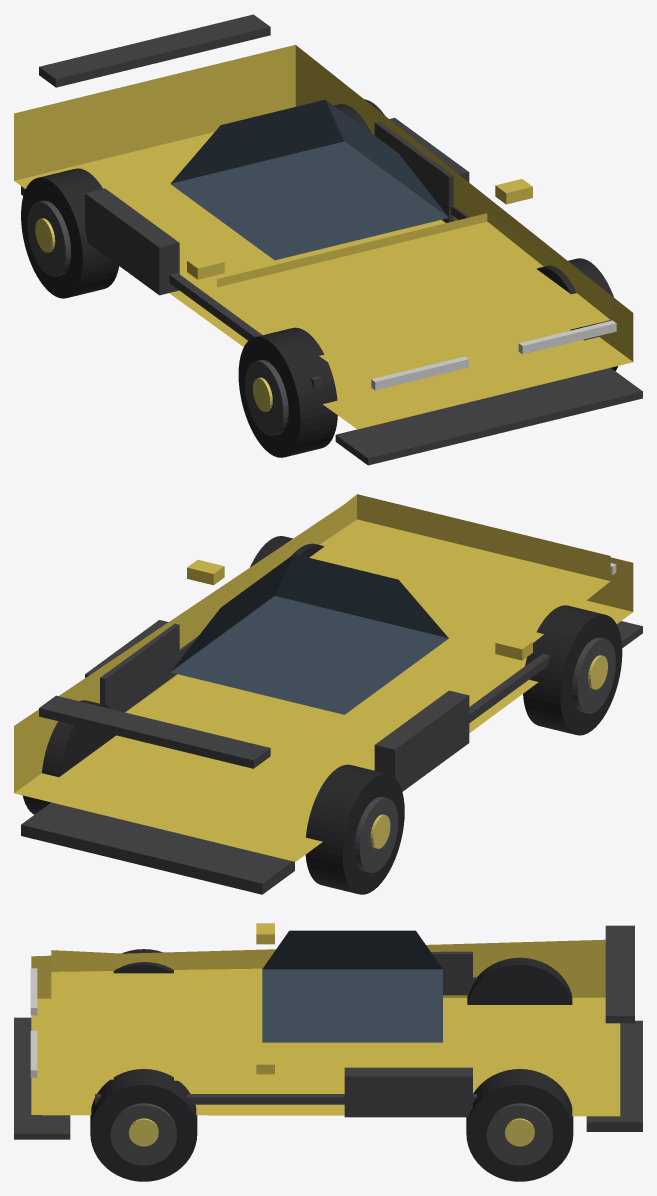
File: toro_v12_lambo_style.glb
3 views of the same model, one above another, from view 1: azimuth 30°, elevation 25°; view 2: azimuth 150°, elevation 25°; view 3: azimuth 270°, elevation 25° (orthographic). The views are drawn at different scales.
Parts seen in each view (by area): view 1: part_0, part_1, part_2, part_3, part_10, part_13, part_5, part_9, part_6, part_14, part_11, part_24 (+5 smaller); view 2: part_0, part_1, part_2, part_4, part_13, part_10, part_9, part_5, part_6, part_19, part_11, part_14 (+4 smaller); view 3: part_0, part_1, part_2, part_16, part_19, part_6, part_13, part_3, part_4, part_9, part_20, part_17 (+9 smaller).
Boxes of the visible parts, x1,y1,x2,y2 form: part_0: (14, 45, 633, 429); part_1: (217, 213, 610, 381); part_2: (170, 99, 448, 260); part_3: (335, 368, 642, 465); part_10: (238, 327, 337, 457); part_13: (21, 168, 119, 298); part_5: (85, 188, 179, 295); part_9: (39, 14, 270, 87); part_6: (374, 117, 469, 222); part_14: (27, 200, 70, 276); part_11: (245, 360, 288, 435); part_24: (169, 273, 321, 388); part_0: (14, 505, 633, 861); part_1: (217, 494, 610, 679); part_2: (170, 554, 448, 714); part_4: (21, 802, 294, 894); part_13: (305, 764, 404, 894); part_10: (523, 605, 622, 735); part_9: (39, 695, 270, 768); part_5: (374, 690, 469, 791); part_6: (85, 620, 179, 712); part_19: (22, 700, 115, 814); part_11: (572, 637, 615, 713); part_14: (354, 796, 398, 872); part_0: (31, 939, 620, 1116); part_1: (51, 950, 278, 1082); part_2: (262, 930, 442, 1042); part_16: (90, 1069, 197, 1181); part_19: (466, 1069, 573, 1181); part_6: (344, 1067, 472, 1117); part_13: (467, 957, 572, 1004); part_3: (14, 1017, 70, 1139); part_4: (586, 1020, 642, 1131); part_9: (605, 925, 634, 1023); part_20: (486, 1103, 552, 1165); part_17: (110, 1103, 176, 1165).
Bounding box in the file's own units: 2.52 × 1.33 × 4.7.
